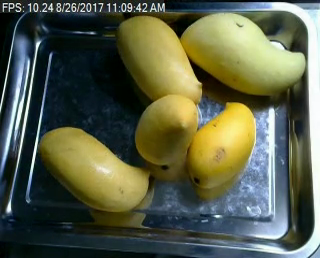Mango: (179, 11, 308, 96), (40, 124, 151, 217), (116, 12, 202, 101), (192, 97, 258, 192), (132, 93, 200, 170)
